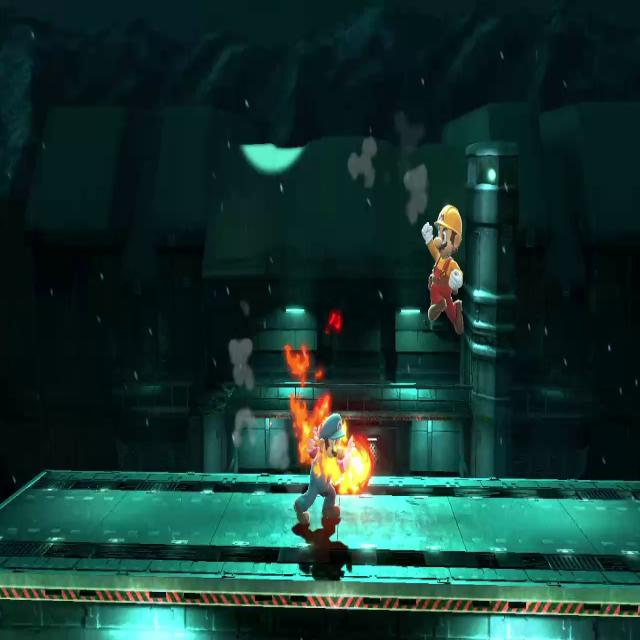Mario-NB: (292, 406, 358, 534)
Mario-jump: (418, 198, 468, 340)
